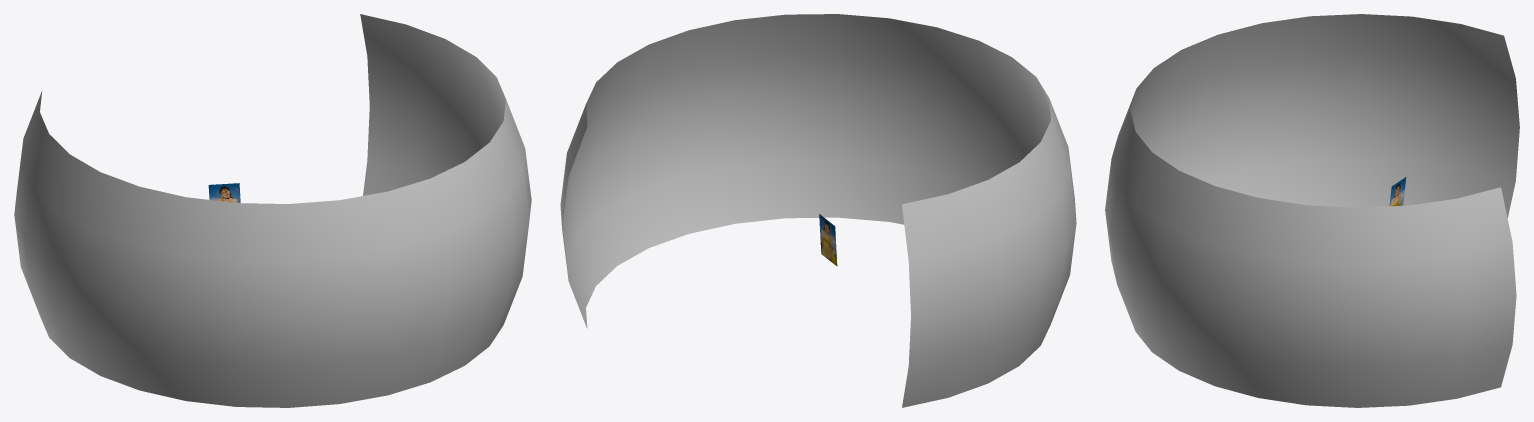
The model's file is Panorama_1_with_FG_v02.dae.
3 views of the same model, side by side, from view 1: azimuth 30°, elevation 25°; view 2: azimuth 150°, elevation 25°; view 3: azimuth 270°, elevation 25° (orthographic).
Parts seen in each view (by area): view 1: Sphere_28, Girl; view 2: Sphere_28, Girl; view 3: Sphere_28.
Boxes of the visible parts, x1,y1,x2,y2 form: Sphere_28: (14, 14, 531, 407); Girl: (208, 183, 240, 202); Sphere_28: (560, 14, 1076, 407); Girl: (819, 214, 837, 266); Sphere_28: (1105, 14, 1519, 407).
Size of the model in its own units: 5142 by 2231 by 4191.
